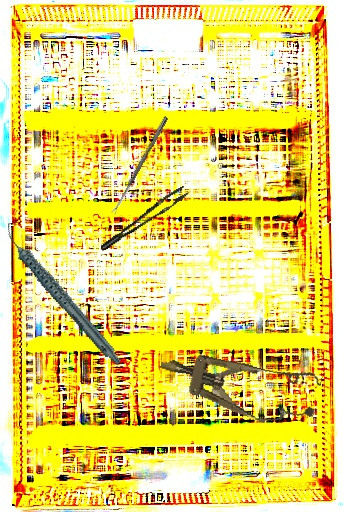Handpiece: (2, 205, 122, 384)
Speculum: (153, 334, 324, 434)
Surgical Spoon: (110, 115, 169, 216)
Tissue Forceps: (93, 184, 195, 252)
